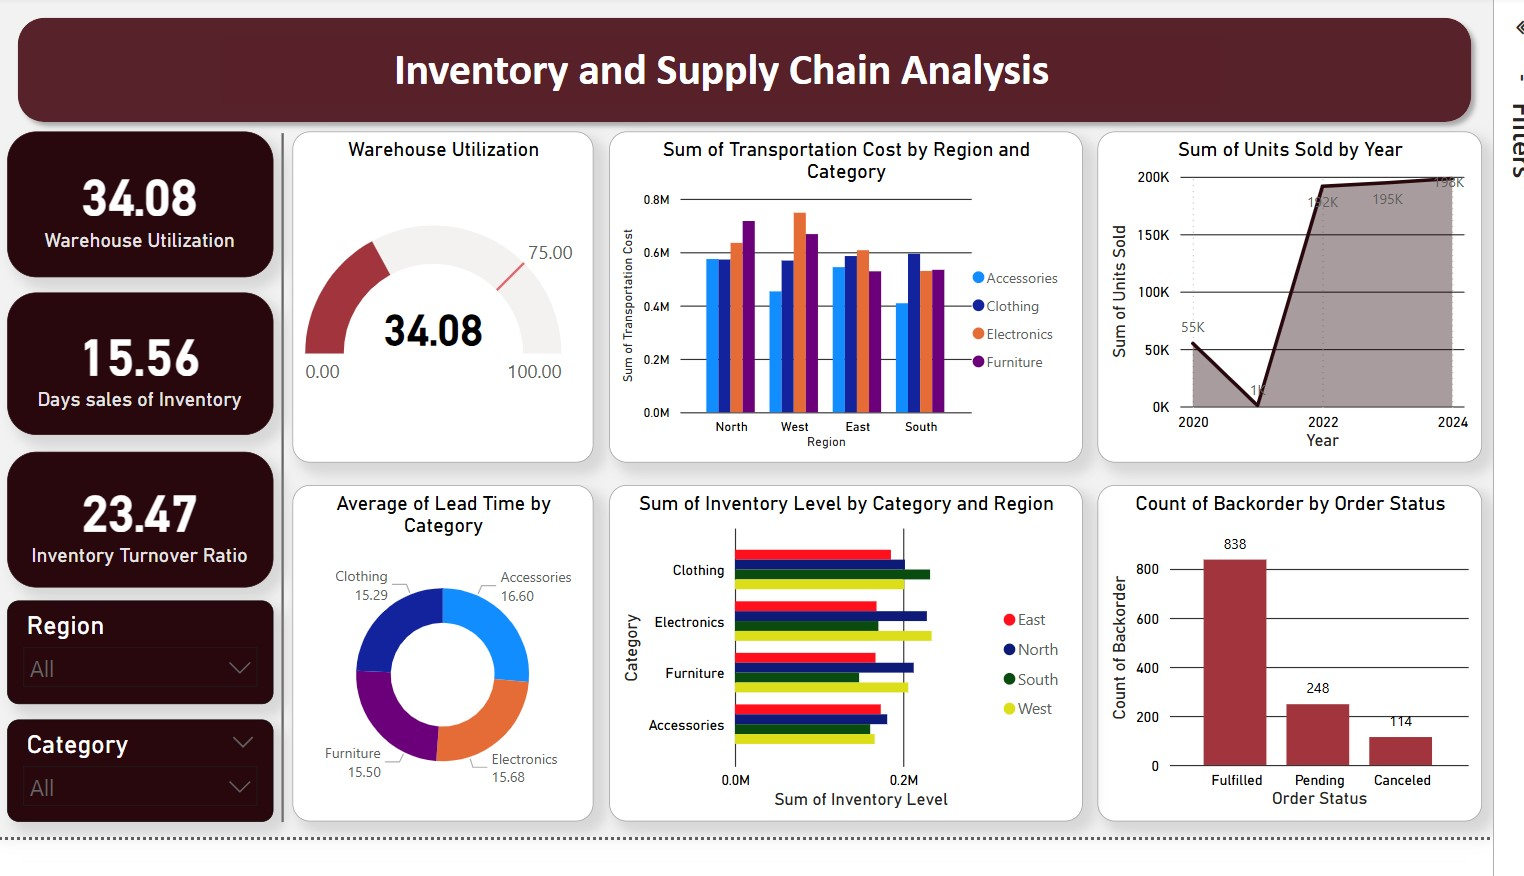

The page's visual inventory and layout, read from the dashboard file:
{"tool":"powerbi","page":{"name":"Page 1","canvas":[1280,720],"ordinal":0},"visuals":[{"type":"shape","box":[10,10,1260,107.1],"z":0},{"type":"textbox","box":[194.3,35.7,852.9,55.7],"z":1000},{"type":"shape","box":[237.5,117.5,16.2,588.8],"z":2000},{"type":"card","fields":{"Values":["Inventory & Supply Chain Data.Warehouse Utilization"]},"box":[10,117.1,227.1,124.3],"z":3000},{"type":"card","fields":{"Values":["Inventory & Supply Chain Data.Days sales of Inventory"]},"box":[10,254.3,227.1,121.4],"z":4000},{"type":"card","fields":{"Values":["Inventory & Supply Chain Data.Inventory Turnover Ratio"]},"box":[10,390,227.1,115.7],"z":5000},{"type":"slicer","fields":{"Values":["Inventory & Supply Chain Data.Region"]},"box":[10,517.1,227.1,88.6],"z":6000},{"type":"slicer","fields":{"Values":["Inventory & Supply Chain Data.Category"]},"box":[10,618.6,227.1,87.1],"z":7000},{"type":"gauge","fields":{"Y":["Inventory & Supply Chain Data.Warehouse Utilization"]},"box":[254.3,117.1,257.1,282.9],"z":8000},{"type":"clusteredColumnChart","fields":{"Y":["Sum(Inventory & Supply Chain Data.Transportation Cost)"],"Category":["Inventory & Supply Chain Data.Region"],"Series":["Inventory & Supply Chain Data.Category"]},"box":[524.3,117.1,404.3,282.9],"z":9000},{"type":"lineChart","fields":{"Y":["Sum(Inventory & Supply Chain Data.Units Sold)"],"Category":["Inventory & Supply Chain Data.Year"]},"box":[941.4,117.1,328.6,282.9],"z":10000},{"type":"donutChart","fields":{"Y":["Avg(Inventory & Supply Chain Data.Lead Time)"],"Category":["Inventory & Supply Chain Data.Category"]},"box":[254.3,418.6,257.1,287.1],"z":11000},{"type":"columnChart","fields":{"Y":["CountNonNull(Inventory & Supply Chain Data.Backorder)"],"Category":["Inventory & Supply Chain Data.Order Status"]},"box":[941.4,418.6,328.6,287.1],"z":12000},{"type":"clusteredBarChart","fields":{"Category":["Inventory & Supply Chain Data.Category"],"Y":["Sum(Inventory & Supply Chain Data.Inventory Level)"],"Series":["Inventory & Supply Chain Data.Region"]},"box":[524.3,418.6,404.3,287.1],"z":13000}]}

Visuals, with their boxes in screenshot pixels (x1, y1, x2, y2), scaled from the page's 1280x720 canvas onto the 1524x876 screenshot:
shape: box=[12, 12, 1512, 142]
textbox: box=[231, 43, 1247, 111]
shape: box=[283, 143, 302, 859]
card - Inventory & Supply Chain Data.Warehouse Utilization: box=[12, 142, 282, 294]
card - Inventory & Supply Chain Data.Days sales of Inventory: box=[12, 309, 282, 457]
card - Inventory & Supply Chain Data.Inventory Turnover Ratio: box=[12, 474, 282, 615]
slicer - Inventory & Supply Chain Data.Region: box=[12, 629, 282, 737]
slicer - Inventory & Supply Chain Data.Category: box=[12, 753, 282, 859]
gauge - Inventory & Supply Chain Data.Warehouse Utilization: box=[303, 142, 609, 487]
clusteredColumnChart - Sum(Inventory & Supply Chain Data.Transportation Cost) x Inventory & Supply Chain Data.Region: box=[624, 142, 1106, 487]
lineChart - Sum(Inventory & Supply Chain Data.Units Sold) x Inventory & Supply Chain Data.Year: box=[1121, 142, 1512, 487]
donutChart - Avg(Inventory & Supply Chain Data.Lead Time) x Inventory & Supply Chain Data.Category: box=[303, 509, 609, 859]
columnChart - CountNonNull(Inventory & Supply Chain Data.Backorder) x Inventory & Supply Chain Data.Order Status: box=[1121, 509, 1512, 859]
clusteredBarChart - Inventory & Supply Chain Data.Category x Sum(Inventory & Supply Chain Data.Inventory Level): box=[624, 509, 1106, 859]
